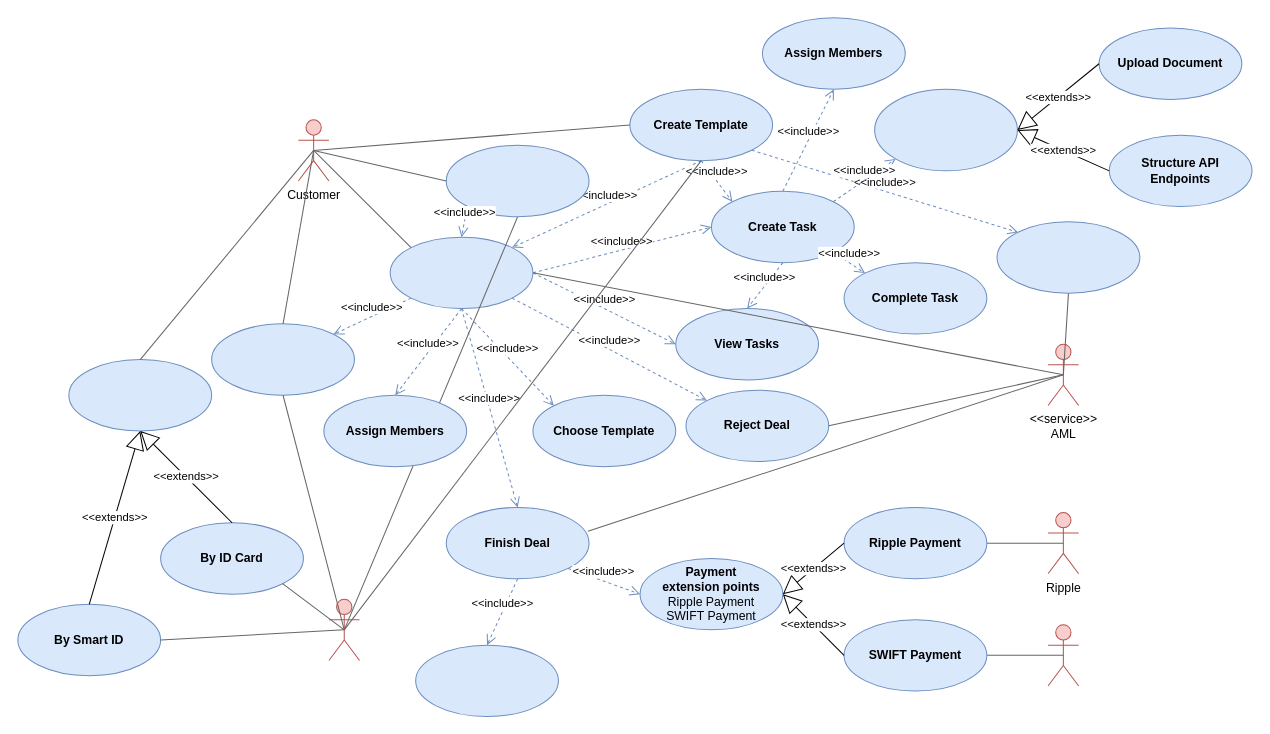
This 1270x734 diagram has some shape labels left out. The shapes that lost their labels are listed below. From the top down, each one's box as (x1, y1, x2, y2) in pixels, then its label:
(874, 88, 1017, 171): Task Details extension points Upload Document Structure AP I
(445, 144, 589, 217): Modify Deal
(389, 236, 533, 309): Create Deal
(996, 221, 1140, 293): Approve Template
(211, 323, 354, 395): View Deals
(68, 359, 212, 431): Authentication extension points By Smart ID By ID Card
(328, 598, 360, 660): <<service>> Authentication
(1047, 624, 1079, 686): SWIFT GPI
(415, 644, 558, 717): Validate Signatures
